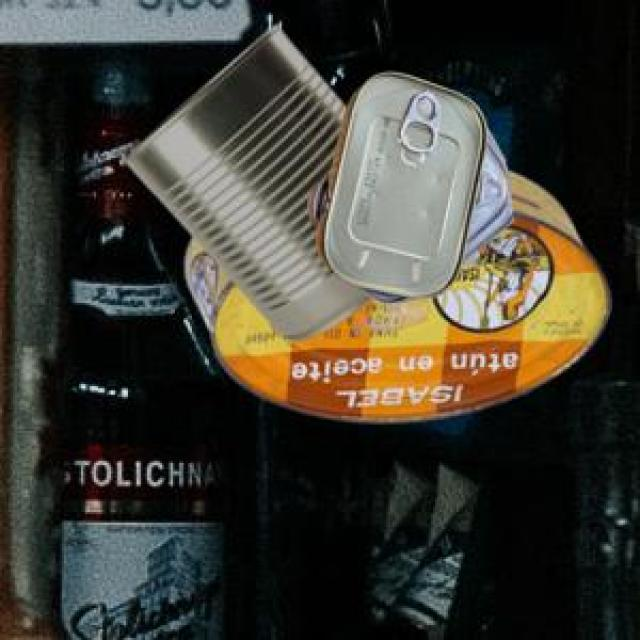logam: (182, 167, 607, 419), (123, 22, 368, 336), (304, 69, 511, 300)
